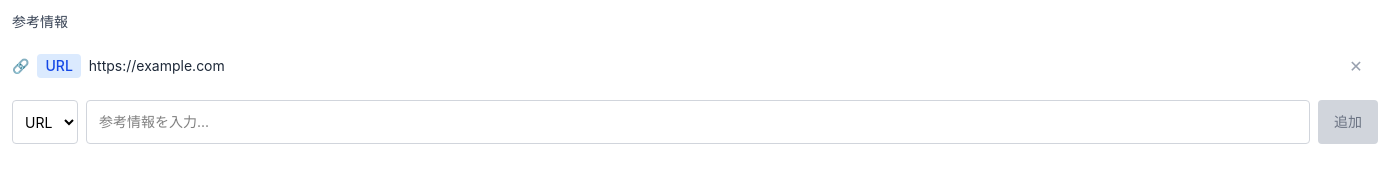
Test: ReferenceEditor › インライン編集 › 参考情報をクリックすると編集モードになる
Click the button with test id "reference-item-0". click: (157, 66)
box: [89,44,1326,88]
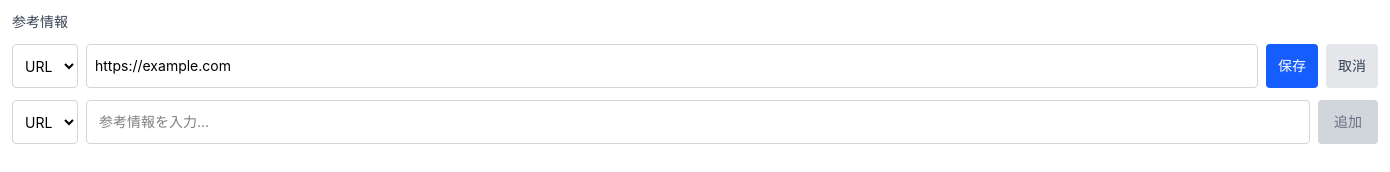
expect the element with test id "reference-edit-form-0" is shown: met, box [12,44,1378,88]
expect the field with test id "reference-edit-value-0" holds "https://example.com": met, box [86,44,1258,88]
